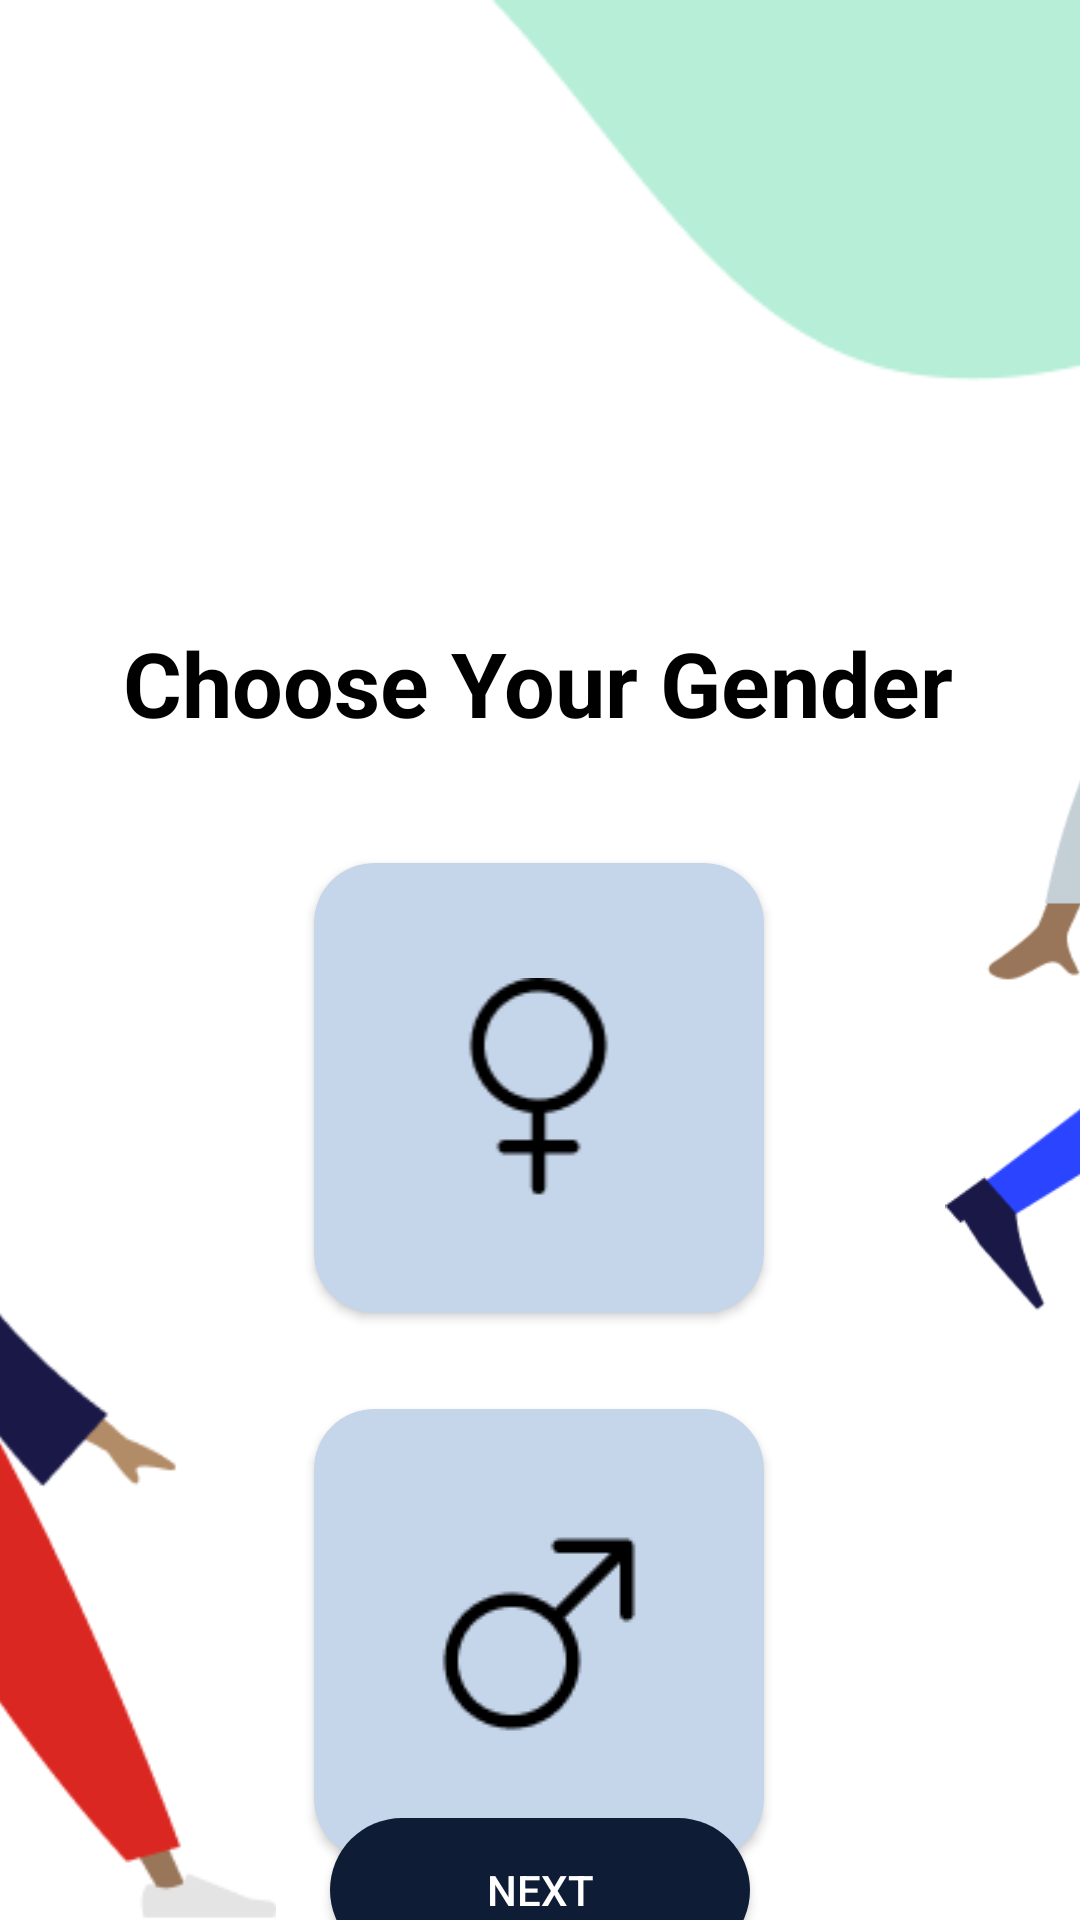

Where icons sit on this 1080px×1920px app screen, as (x1, y1, x2, y2):
bigender female: (469, 978, 608, 1195)
bigender male: (442, 1537, 636, 1731)
